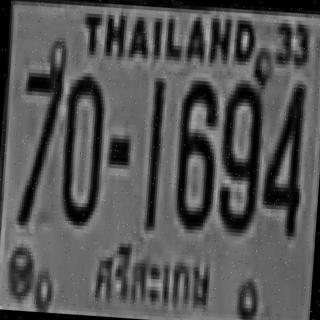N00: (58, 72, 104, 222)
N01: (142, 75, 165, 228)
N04: (259, 78, 305, 233)
N06: (171, 76, 219, 227)
N07: (15, 57, 64, 223)
N09: (215, 79, 263, 230)
P63: (91, 240, 219, 318)
